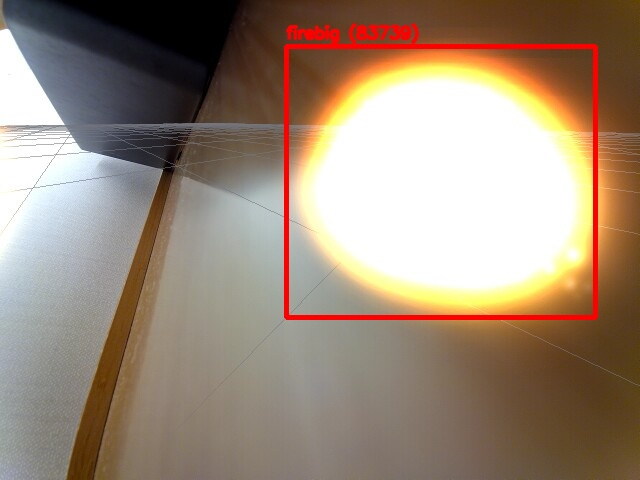firebig: (286, 46, 595, 317)
